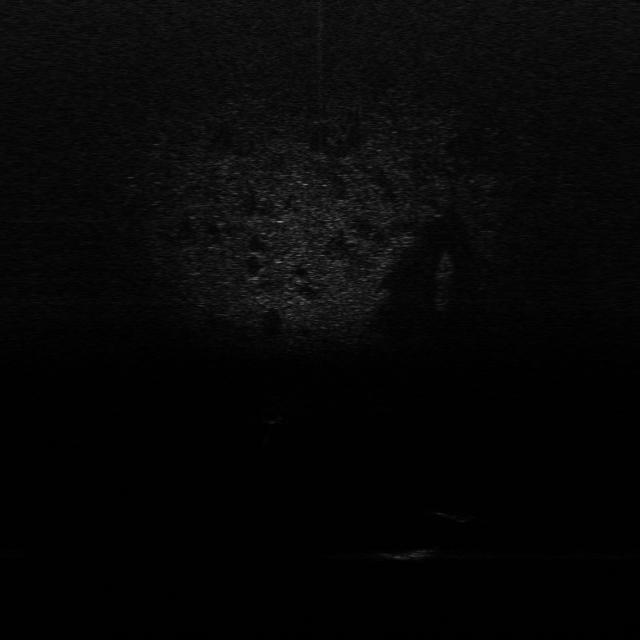ball: (260, 406, 286, 425)
metal bucket: (376, 543, 444, 566)
tyre: (432, 500, 487, 526)
